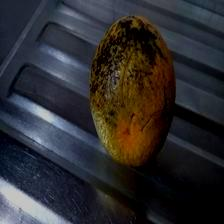Mango Overripe: (89, 10, 178, 169)
